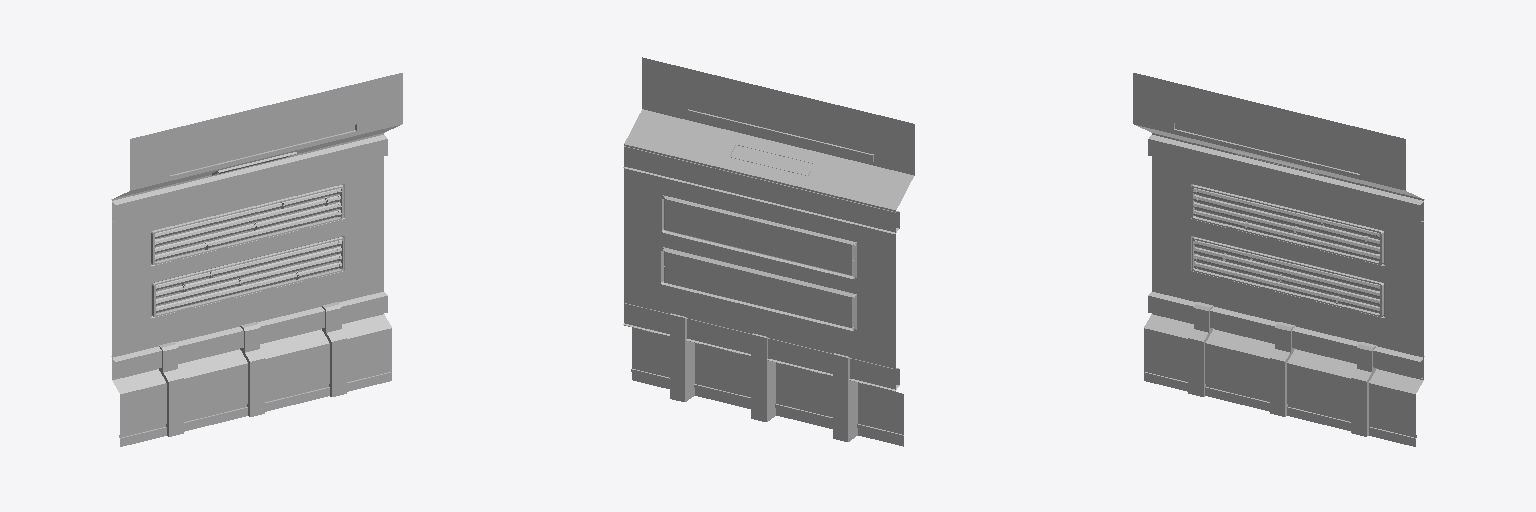
File: Wall_5.obj
3 views of the same model, side by side, from view 1: azimuth 30°, elevation 25°; view 2: azimuth 150°, elevation 25°; view 3: azimuth 330°, elevation 25° (orthographic).
Parts seen in each view (by area): view 1: Wall_5_Plane.113; view 2: Wall_5_Plane.113; view 3: Wall_5_Plane.113.
Boxes of the visible parts, x1=… form: Wall_5_Plane.113: x1=111, y1=73, x2=402, y2=446; Wall_5_Plane.113: x1=623, y1=57, x2=914, y2=446; Wall_5_Plane.113: x1=1133, y1=73, x2=1424, y2=446.
Size of the model in its own units: 4 by 4.43 by 0.5279.